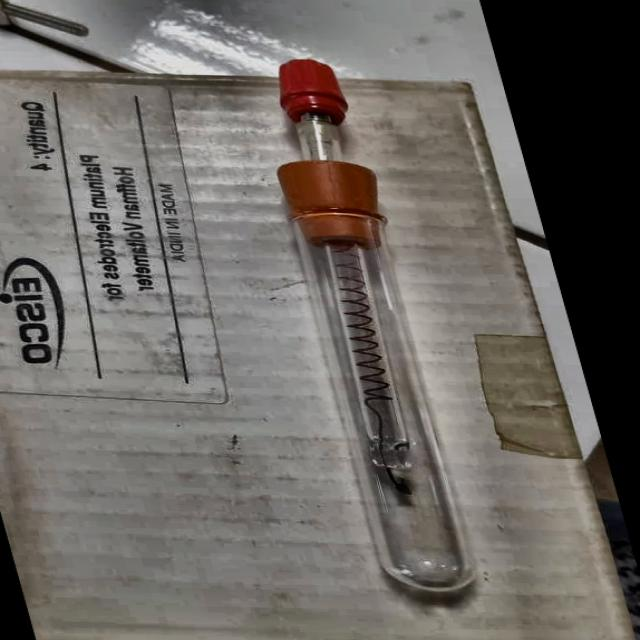Electrode: (222, 52, 501, 595)
